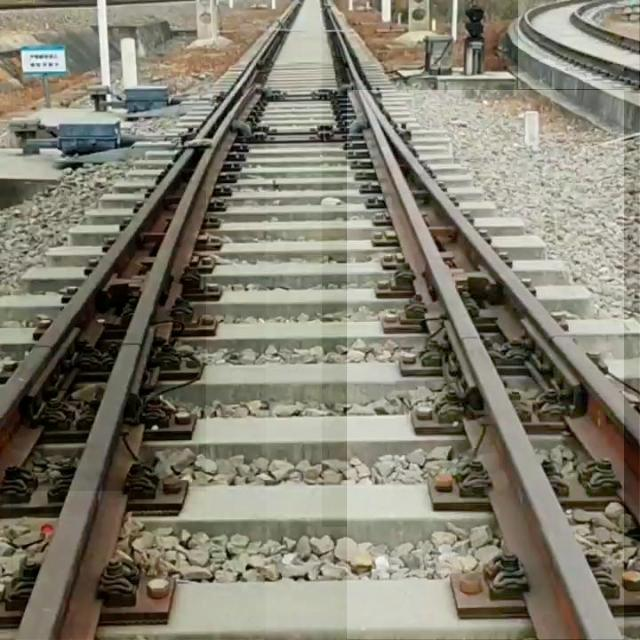rail: (323, 1, 640, 528), (348, 91, 625, 640), (12, 87, 267, 640), (1, 149, 207, 492), (196, 1, 302, 139), (519, 1, 640, 90), (571, 1, 640, 54)
